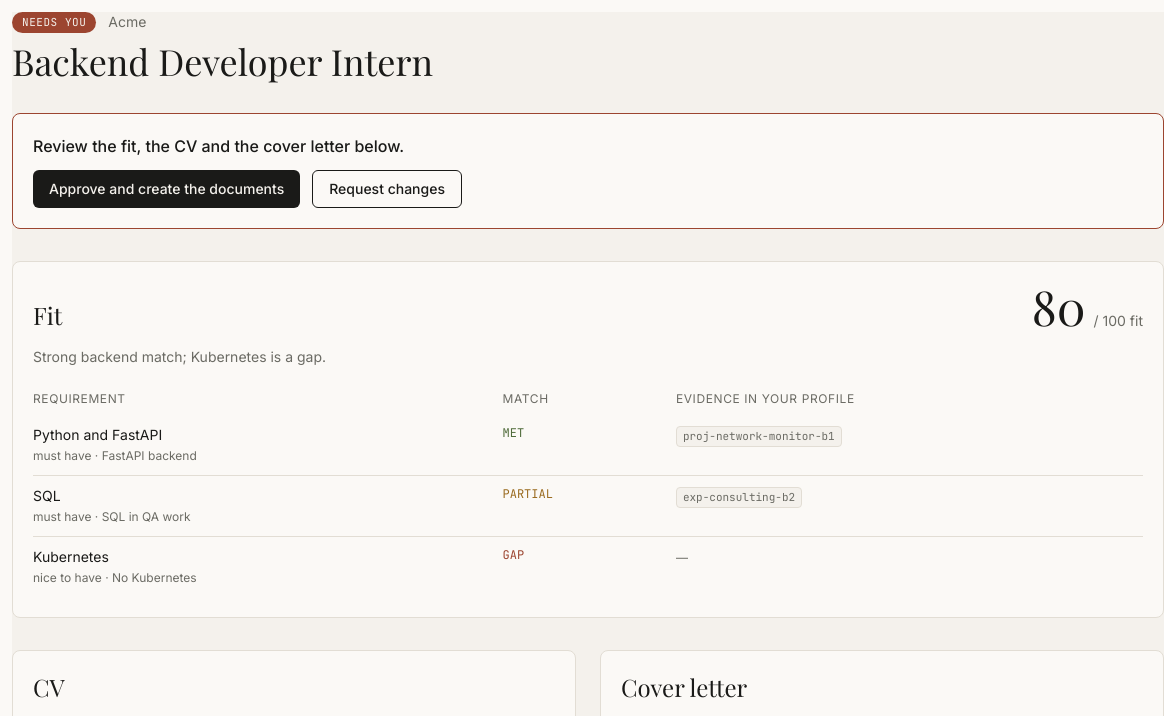
Test case: RunDetail › shows the profile text behind an evidence chip
The image size is (1164, 716).
Hover over the button "proj-network-monitor-b1": [759, 436] box [676,426,842,447]
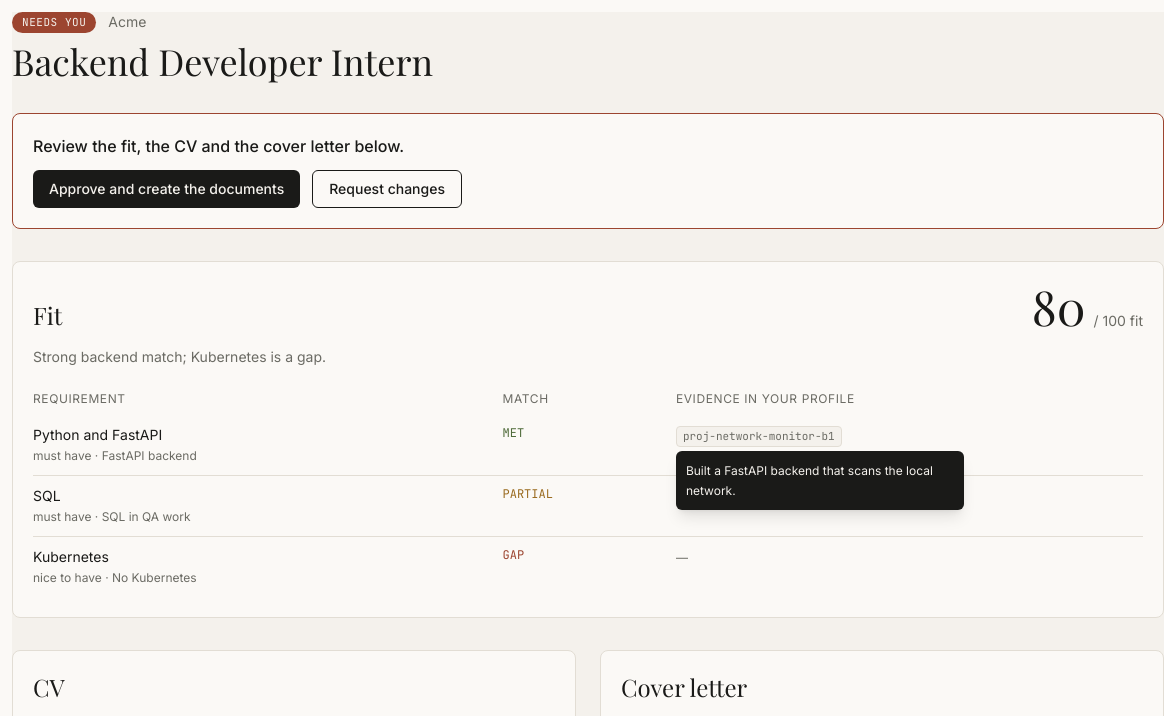
Check: the tooltip reads "Built a FastAPI backend that scans the local network.", box [686,463,933,498]
